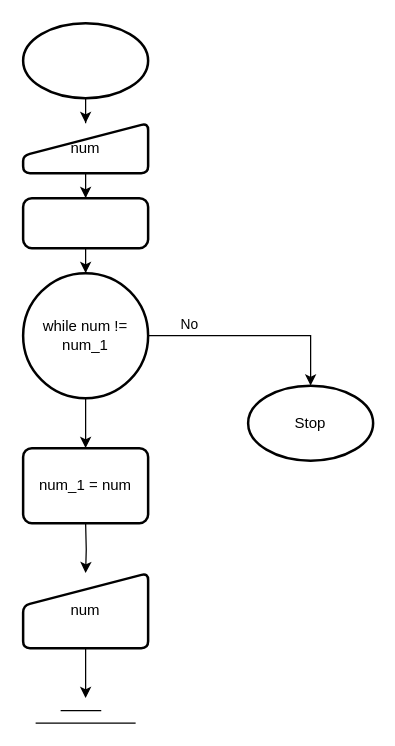
Some shapes in this 395 by 746 pixel diagram are drawn without their labels. Each missing label, with the box of its shape:
num_1 = None: (21, 196, 149, 249)
Start: (21, 21, 149, 99)
